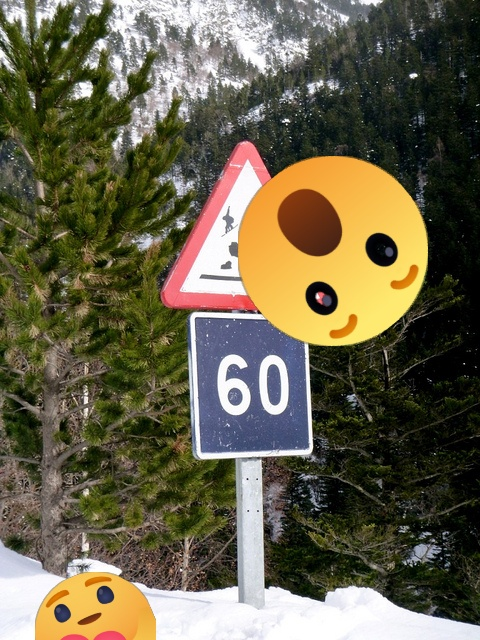care: (35, 572, 156, 640)
wow: (238, 156, 428, 346)
